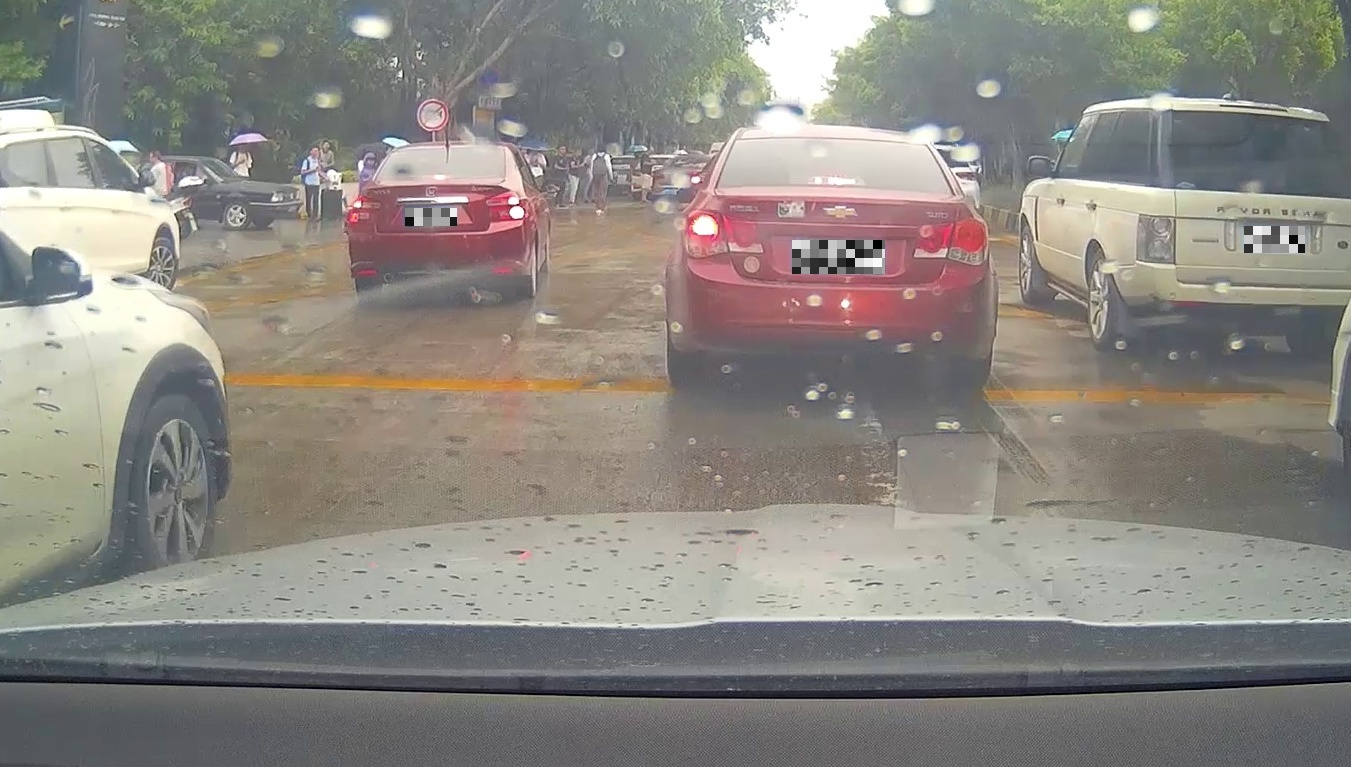L_light: (679, 208, 765, 258), (348, 196, 382, 223)
R_light: (913, 215, 990, 266), (485, 190, 528, 220)
T_light: (807, 175, 866, 186), (422, 174, 452, 179)
day-brake: (346, 138, 532, 301)
day-left: (665, 124, 999, 387)
plate_1: (405, 208, 457, 226)
plate_2: (792, 240, 885, 274)
plate_3: (1244, 226, 1305, 253)
